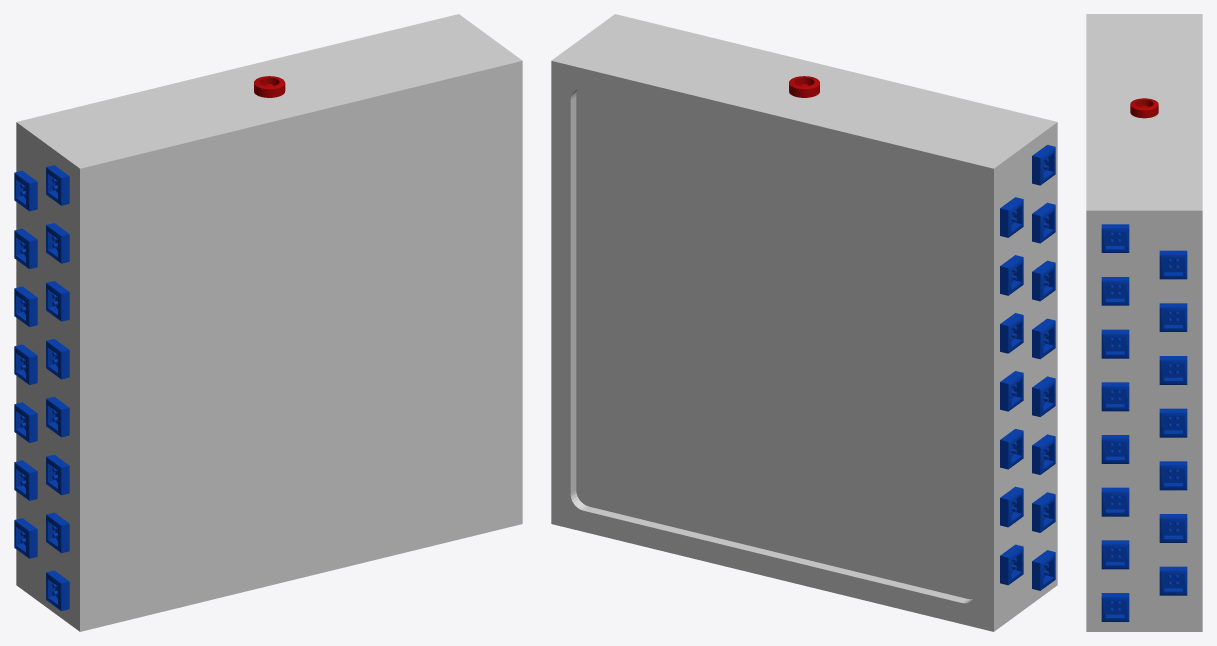
Rendered from Router.gltf.
3 views of the same model, side by side, from view 1: azimuth 30°, elevation 25°; view 2: azimuth 150°, elevation 25°; view 3: azimuth 270°, elevation 25° (orthographic). The views are drawn at different scales.
Visible parts, largest first — view 1: base; view 2: base; view 3: base.
Part boxes in pixels (x1,y1,x2,y2): base: [14, 14, 522, 631]; base: [551, 14, 1057, 631]; base: [1086, 14, 1202, 631].
Size of the model in its own units: 1.04 by 1.02 by 0.25.
